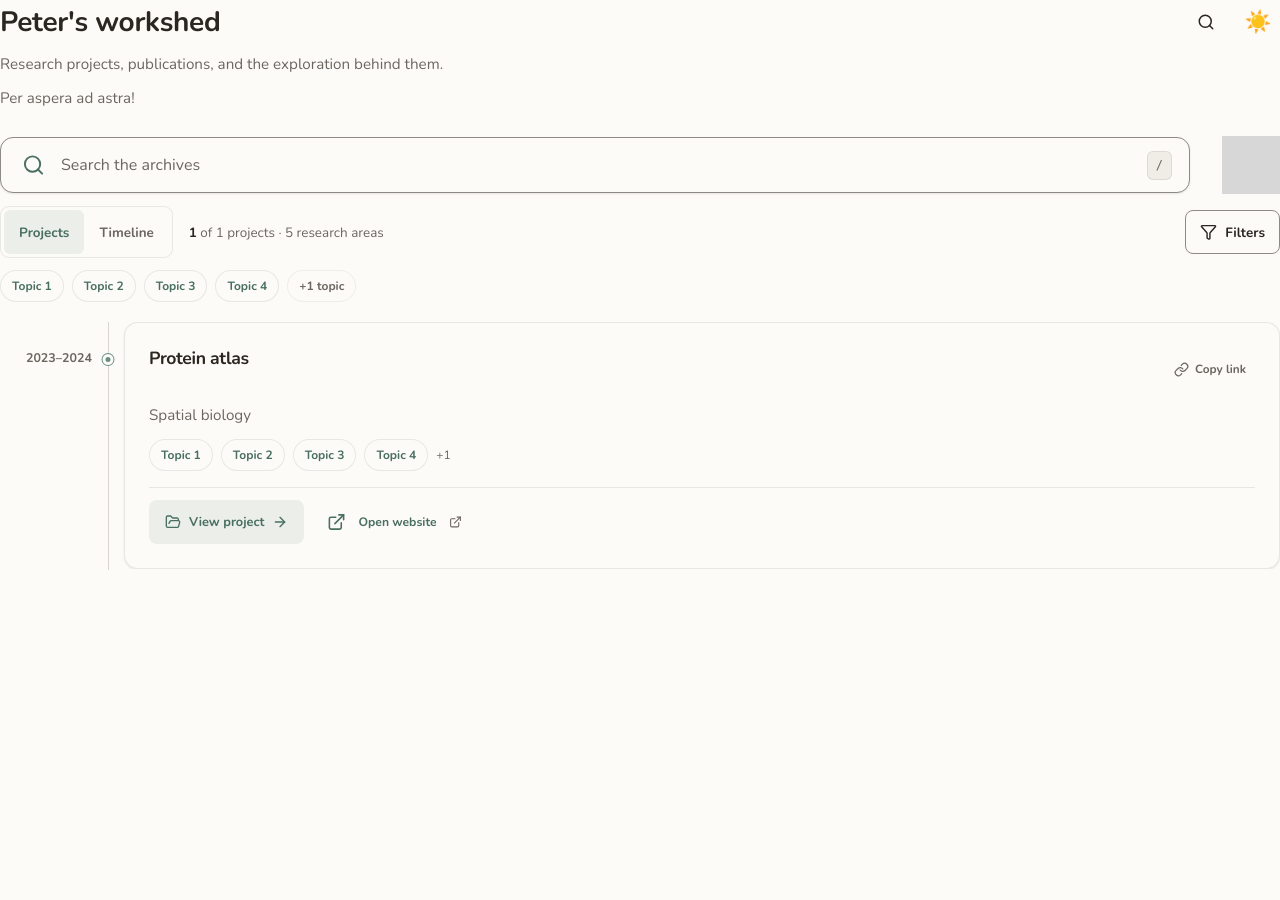
Test: archive integration regressions › counts hidden topics without changing card indicators (5 topics)
What coordinates should you click on to do the following:
click the button "+1 topic"
I would click on:
 (322, 286)
Its box is [287,270,356,302].
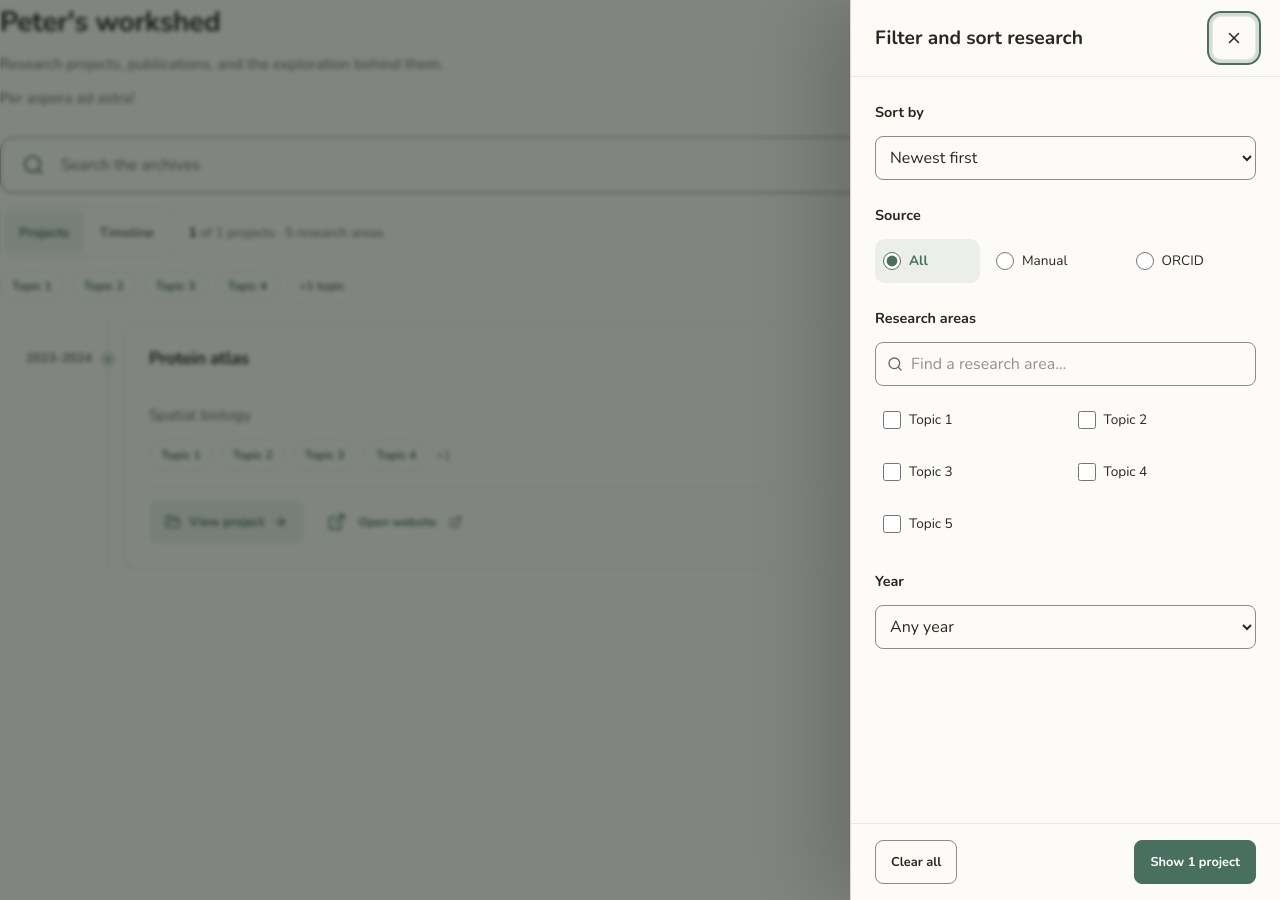
Check: the dialog "Filter and sort research" is shown, box [850,0,1279,899]
Check: the number of checkboxes is 5, box [883,411,901,429]; [1078,411,1096,429]; [883,463,901,481]; [1078,463,1096,481]; [883,515,901,533]
